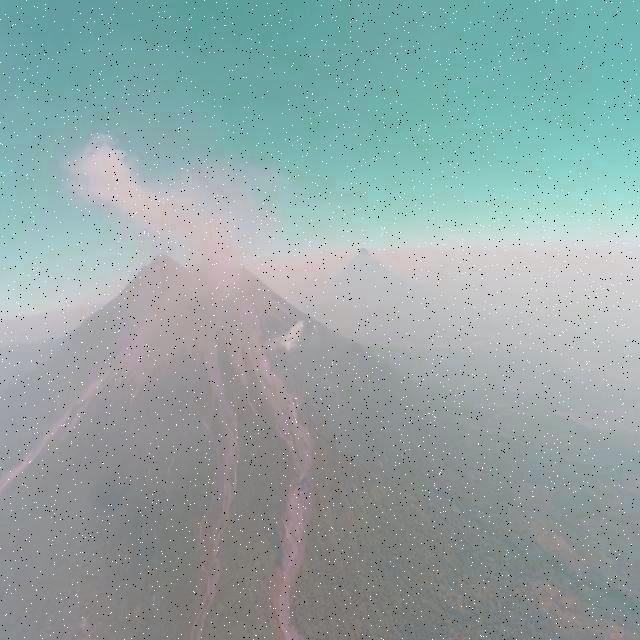Plume: (66, 109, 290, 273)
